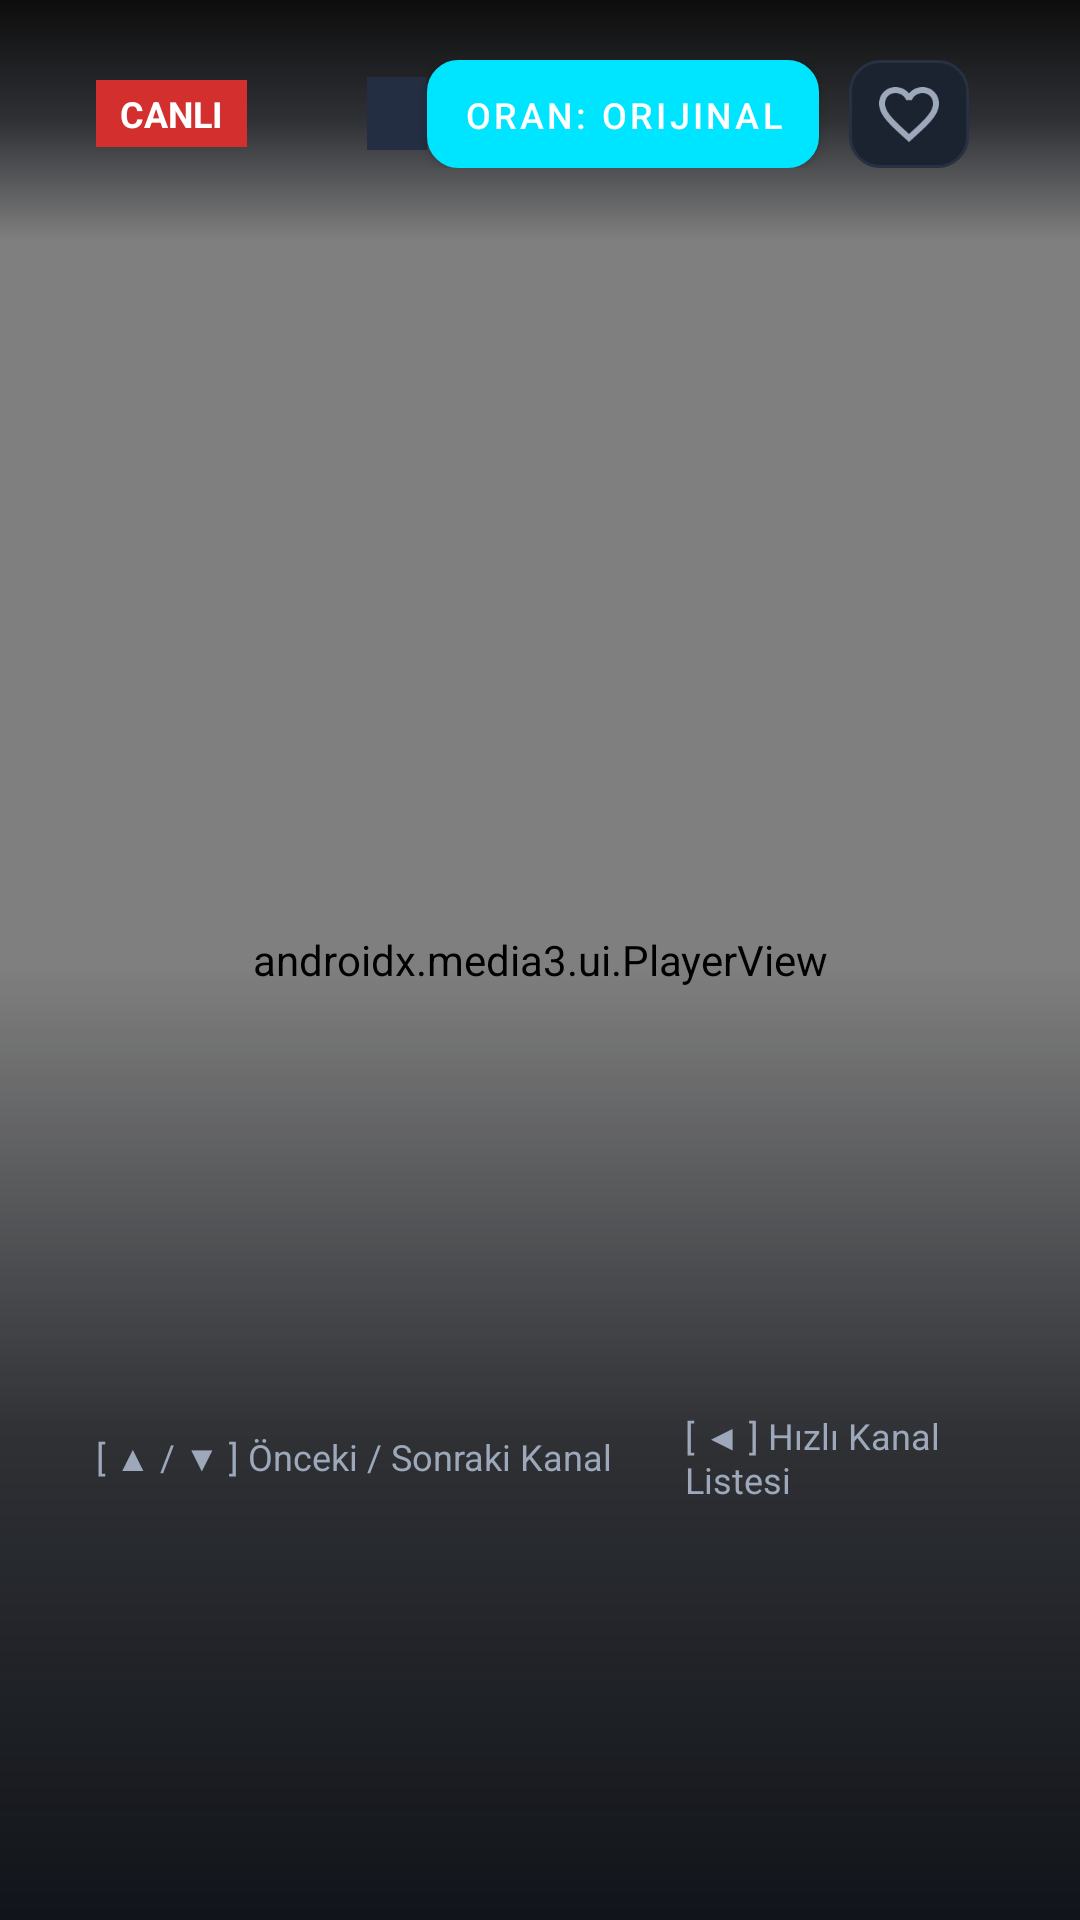

Icons on this 1080*1920 Android screen, each with the point to tap as [x,y]:
Favoriler: [909,114]
